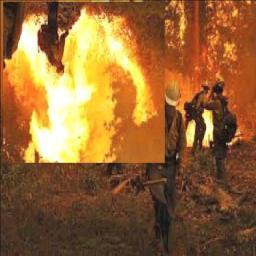Large fire: (0, 24, 170, 163)
